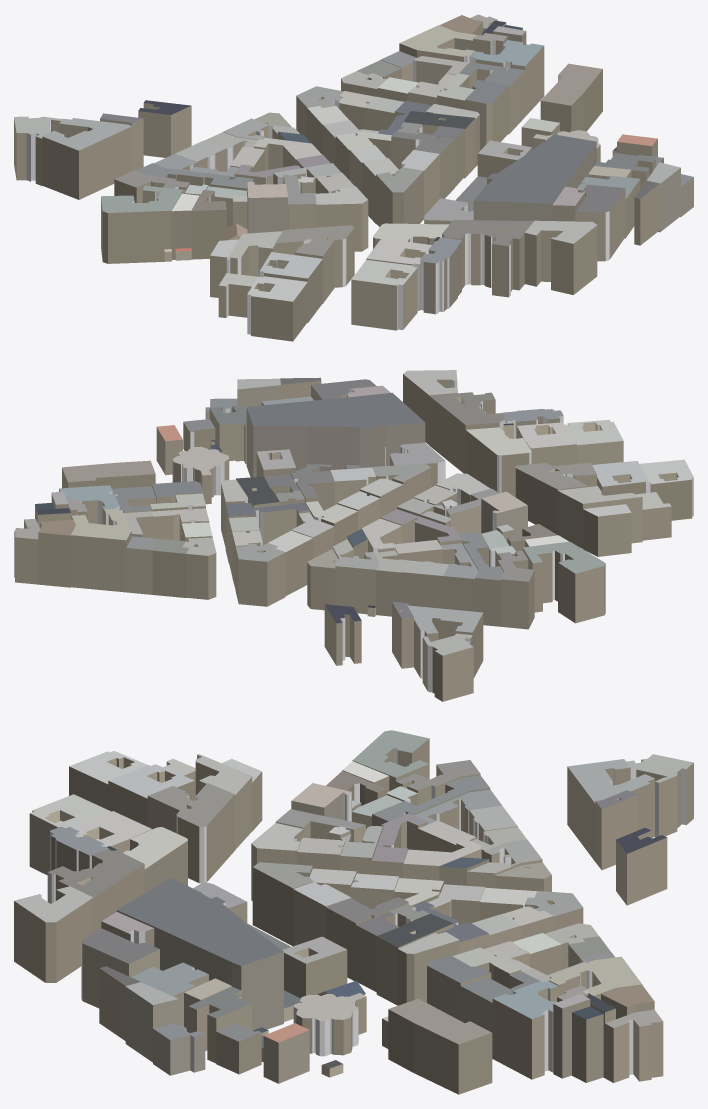
The picture shows the model from 3 angles, top to bottom: view 1: azimuth 30°, elevation 25°; view 2: azimuth 150°, elevation 25°; view 3: azimuth 270°, elevation 25°; orthographic projection. The views are drawn at different scales.
Parts seen in each view (by area): view 1: tuile; view 2: tuile; view 3: tuile.
Boxes of the visible parts, left/top/right/bottom form: tuile: left=14, top=14, right=693, bottom=341; tuile: left=14, top=370, right=693, bottom=701; tuile: left=14, top=730, right=693, bottom=1094.
Size of the model in its own units: 288 by 35.1 by 271.
